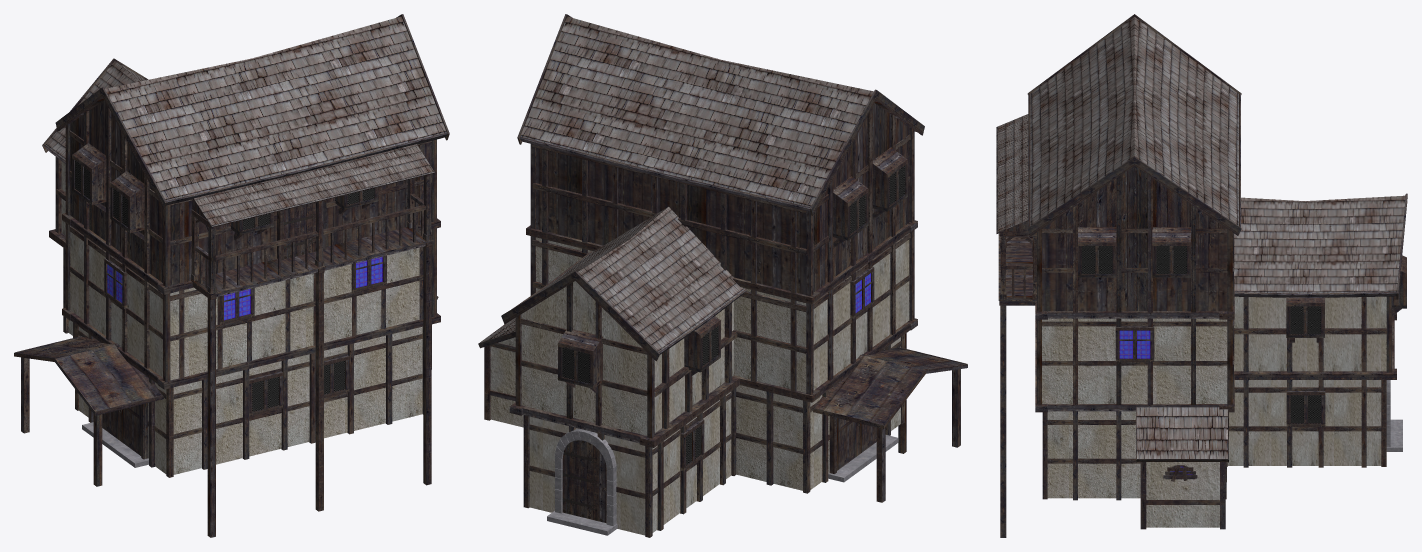
Rendered from thouse24.dae.
3 renders of one model, left to right at view 1: azimuth 30°, elevation 25°; view 2: azimuth 150°, elevation 25°; view 3: azimuth 270°, elevation 25°, orthographic. The views are drawn at different scales.
Visible parts, largest first — view 1: House2_Roof, House2_Level2, House2_Level1, House2_Level3, House2_Level2_Beams, Balcony1Roof, House2_Level1_Beams, Balcony1, Balcony1Stilts, House2_Level3_Beams, Roof1Outer, Balcony1Handles (+21 smaller); view 2: House2_Roof, House2_Level3, House5_Roof, House5_Level2, House2_Level2, House2_Level3_Beams, House5_Level1, House2_Level2_Beams, House2_Level1, House5_Level2_Beams, Roof1Outer, House5_Level1_Beams (+22 smaller); view 3: House2_Roof, House5_Roof, House2_Level3, House2_Level2, House5_Level1, House5_Level2, House2_Level1, BuildingExtensions4Roof, House2_Level3_Beams, House2_Level2_Beams, BuildingExtensions4, House2_Roof_Frame (+22 smaller).
Part boxes in pixels (<box>): House2_Roof: <box>105,16,446,200</box>; House2_Level2: <box>70,226,431,380</box>; House2_Level1: <box>79,326,422,474</box>; House2_Level3: <box>70,100,431,285</box>; House2_Level2_Beams: <box>65,223,436,381</box>; Balcony1Roof: <box>194,144,434,226</box>; House2_Level1_Beams: <box>75,324,423,477</box>; Balcony1: <box>191,172,434,295</box>; Balcony1Stilts: <box>207,246,431,537</box>; House2_Level3_Beams: <box>65,103,436,286</box>; Roof1Outer: <box>17,337,161,411</box>; Balcony1Handles: <box>195,193,425,288</box>; House2_Roof: <box>520,16,873,207</box>; House2_Level3: <box>536,103,909,294</box>; House5_Roof: <box>528,207,744,351</box>; House5_Level2: <box>521,281,733,435</box>; House2_Level2: <box>536,233,909,392</box>; House2_Level3_Beams: <box>530,106,914,296</box>; House5_Level1: <box>529,392,731,535</box>; House2_Level2_Beams: <box>530,230,914,394</box>; House2_Level1: <box>736,337,900,490</box>; House5_Level2_Beams: <box>515,282,737,438</box>; Roof1Outer: <box>815,348,965,424</box>; House5_Level1_Beams: <box>523,388,736,537</box>; House2_Roof: <box>1030,17,1238,225</box>; House5_Roof: <box>1234,195,1405,293</box>; House2_Level3: <box>1042,166,1227,311</box>; House2_Level2: <box>1042,318,1227,403</box>; House5_Level1: <box>1227,380,1381,465</box>; House5_Level2: <box>1234,296,1386,371</box>; House2_Level1: <box>1047,411,1140,498</box>; BuildingExtensions4Roof: <box>1136,407,1227,458</box>; House2_Level3_Beams: <box>1037,175,1234,312</box>; House2_Level2_Beams: <box>1037,318,1234,404</box>; BuildingExtensions4: <box>1146,462,1219,527</box>; House2_Roof_Frame: <box>1027,14,1241,235</box>.
Bounding box in the file's own units: 11.21 × 10.65 × 11.42.
32 materials, 32 textured.
